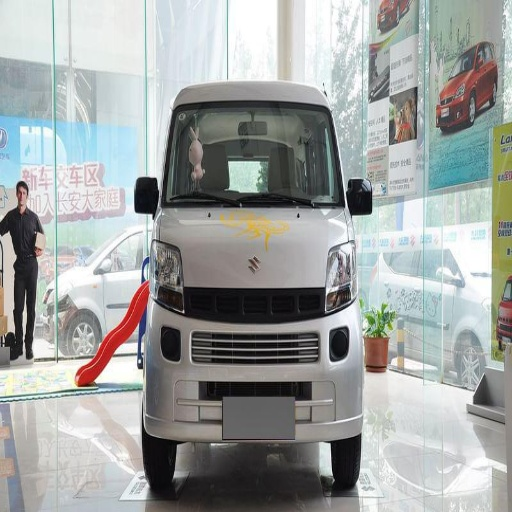front_bumper: (148, 286, 361, 449)
front_right_light: (144, 241, 186, 313)
hood: (154, 207, 350, 287)
